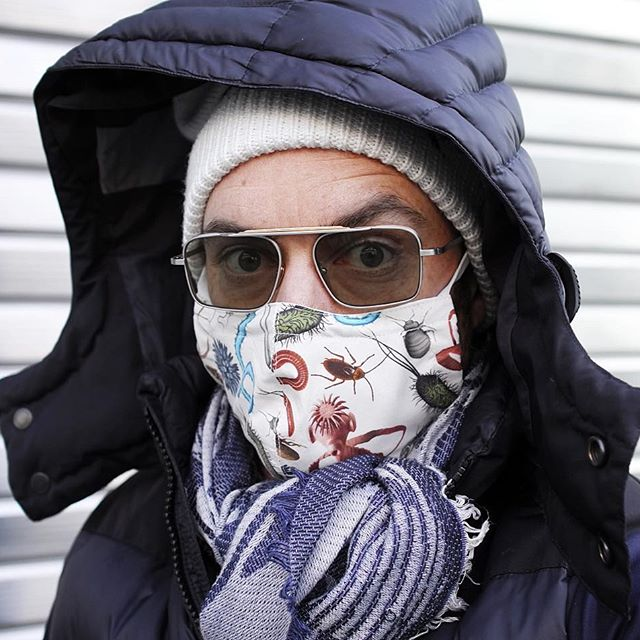homemade: (191, 297, 485, 487)
